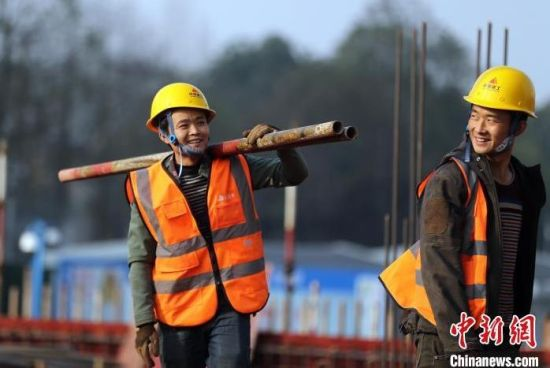safetyhat: (103, 64, 304, 364), (389, 50, 547, 346)
